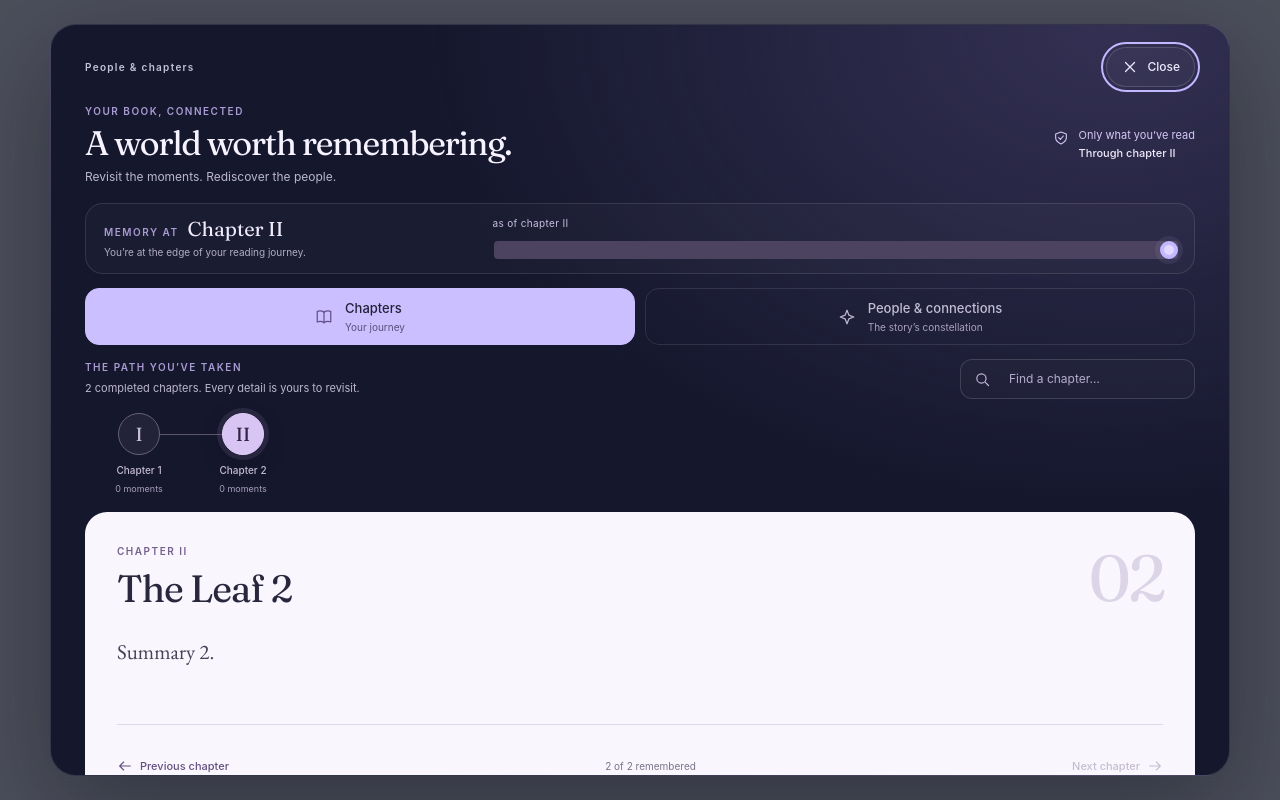
Scenario: Codex › opens the chapter journey at the bookmark and separates the people workspace
Check: the heading "The Leaf 2" is shown, box [117,566,292,612]
Click the tab "People & connections": x=920, y=317 [645,288,1195,345]
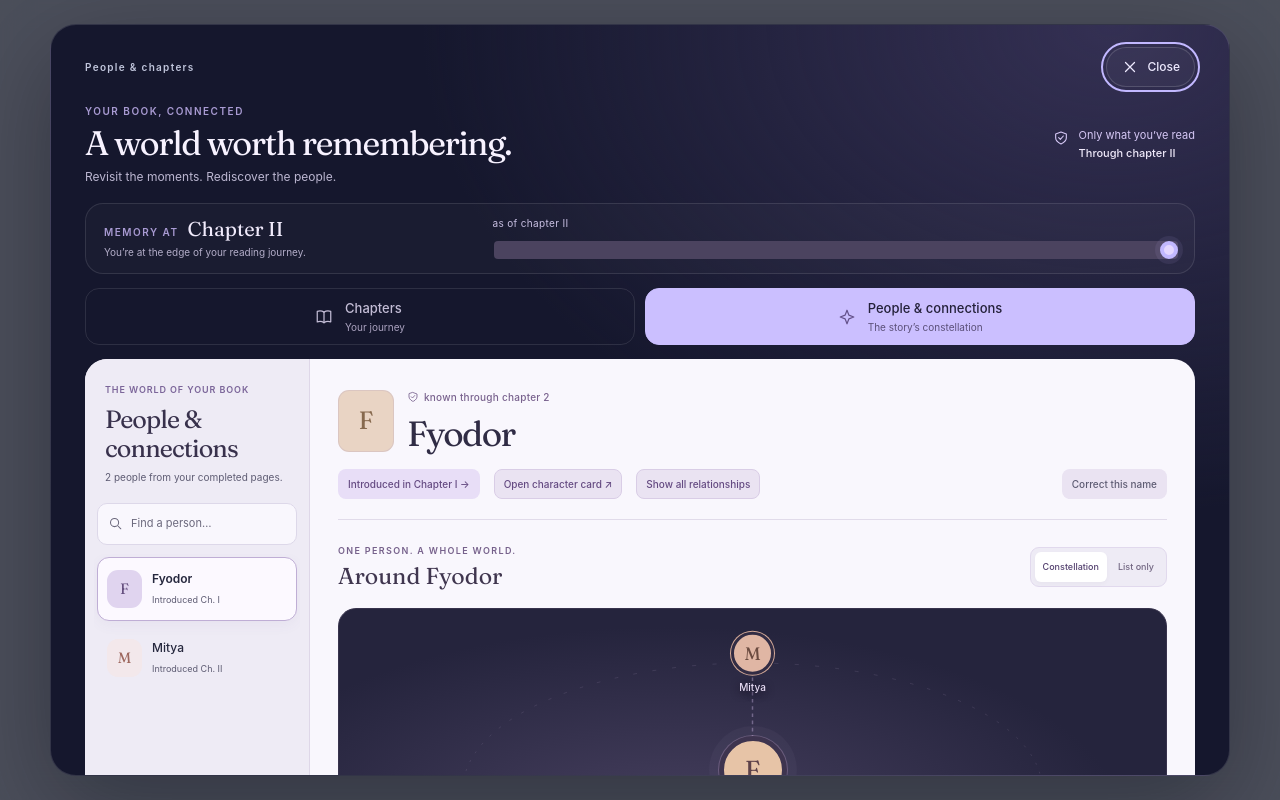
Check: the button "F Fyodor Introduced Ch. I" is shown, box [97,557,297,621]
Check: the heading "The Leaf 2" is gone
